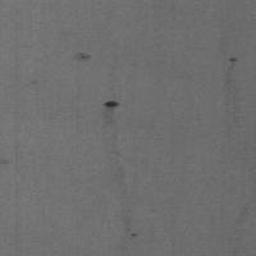Inclusion: (102, 99, 131, 182), (224, 55, 247, 131), (118, 206, 140, 243), (73, 51, 92, 61), (0, 156, 13, 166)
